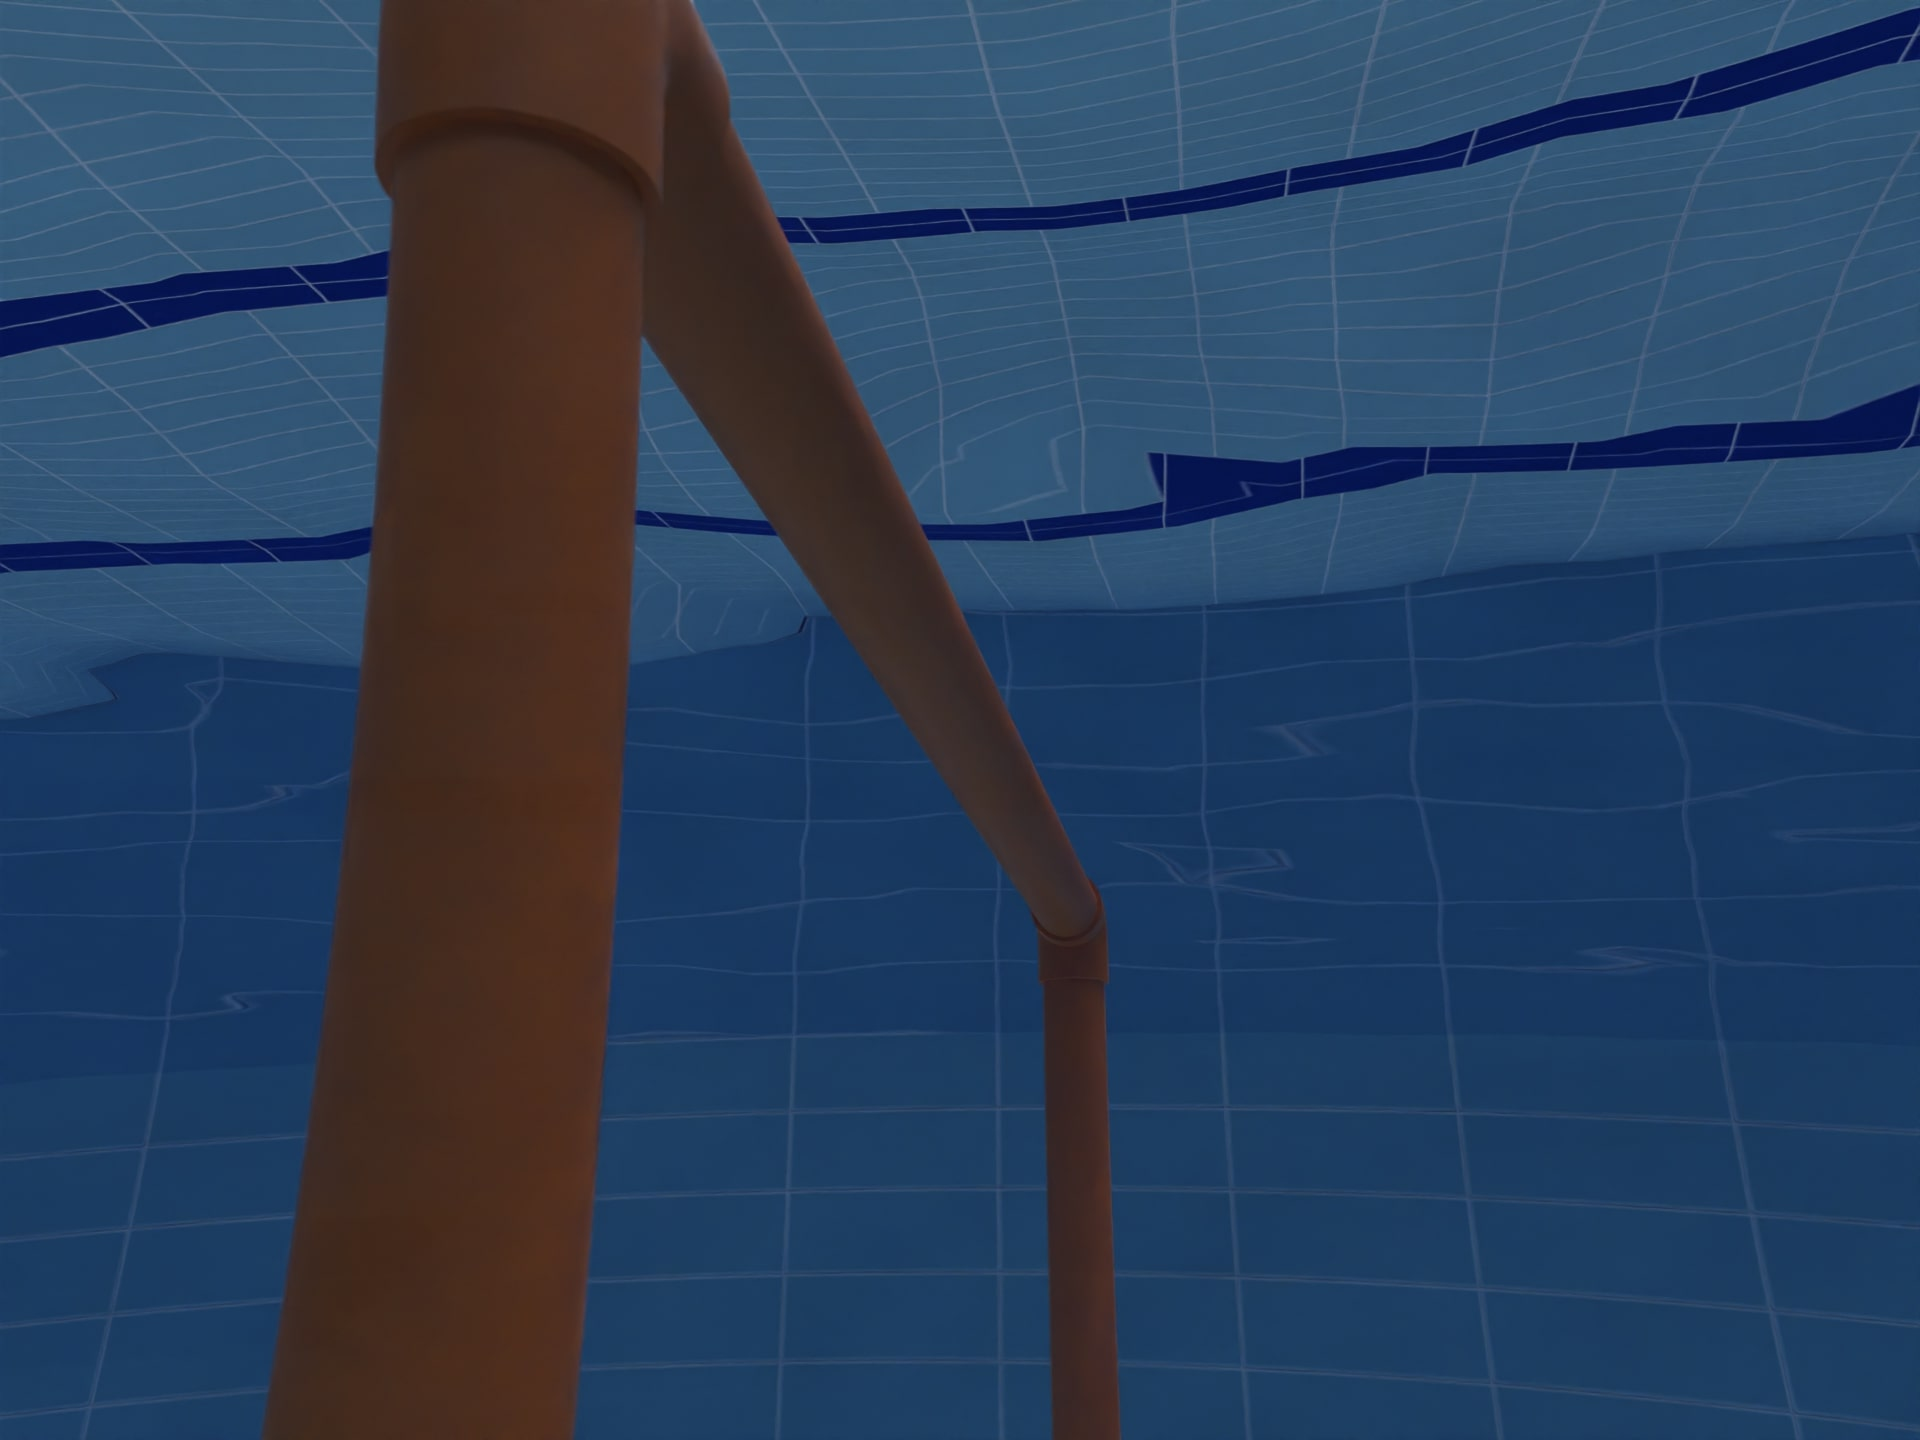gate: (212, 5, 1184, 1440)
